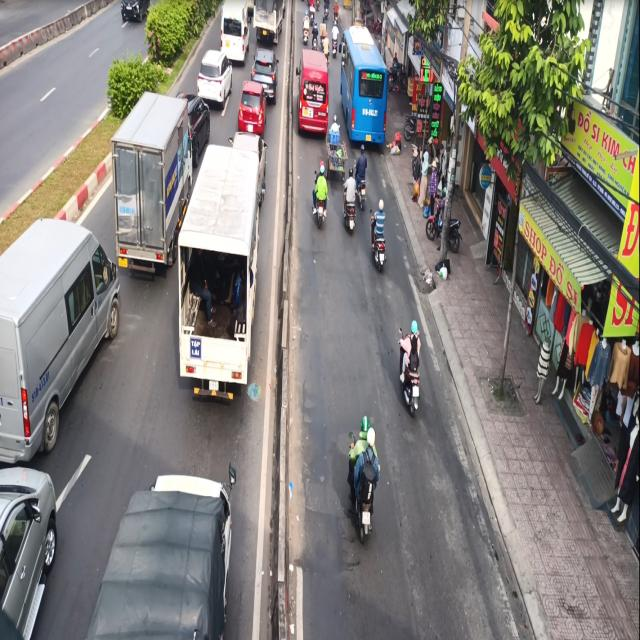car: (296, 46, 330, 135), (200, 49, 228, 107), (237, 80, 264, 132)
motor: (346, 410, 381, 549), (399, 310, 424, 427), (369, 194, 392, 265), (311, 158, 331, 232)
truck: (113, 95, 194, 267)
